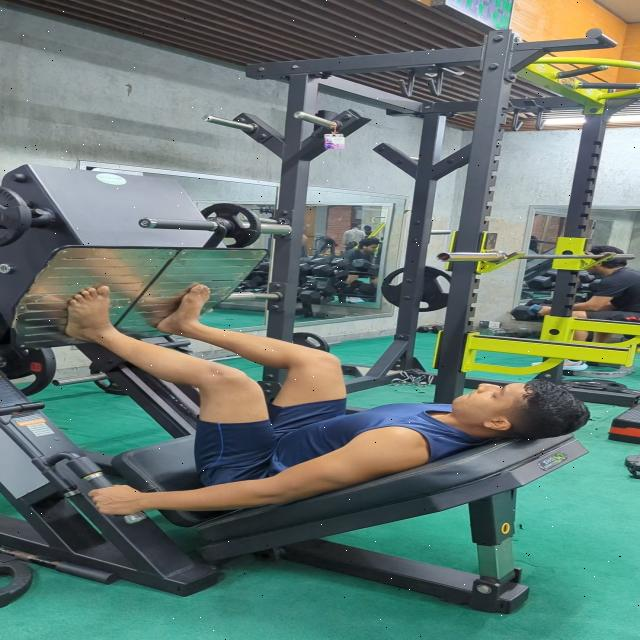Normal_LegPress: (41, 267, 640, 535)
